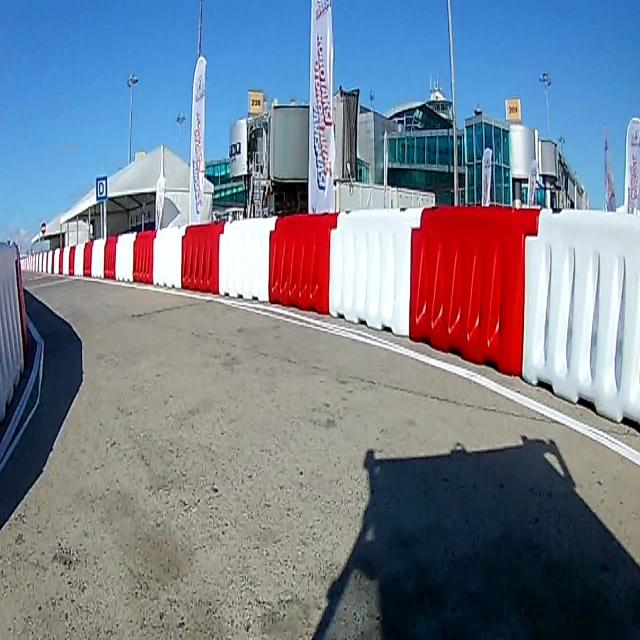durak: (95, 176, 108, 202)
